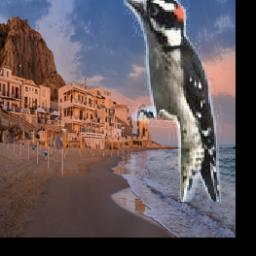Woodpecker: (124, 0, 221, 202)
